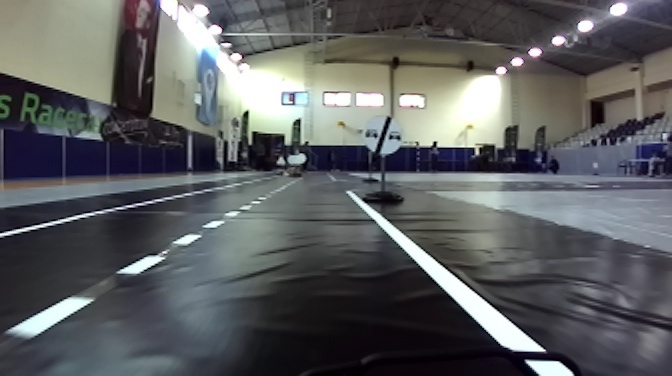sollama_serbest: (362, 115, 402, 157)
